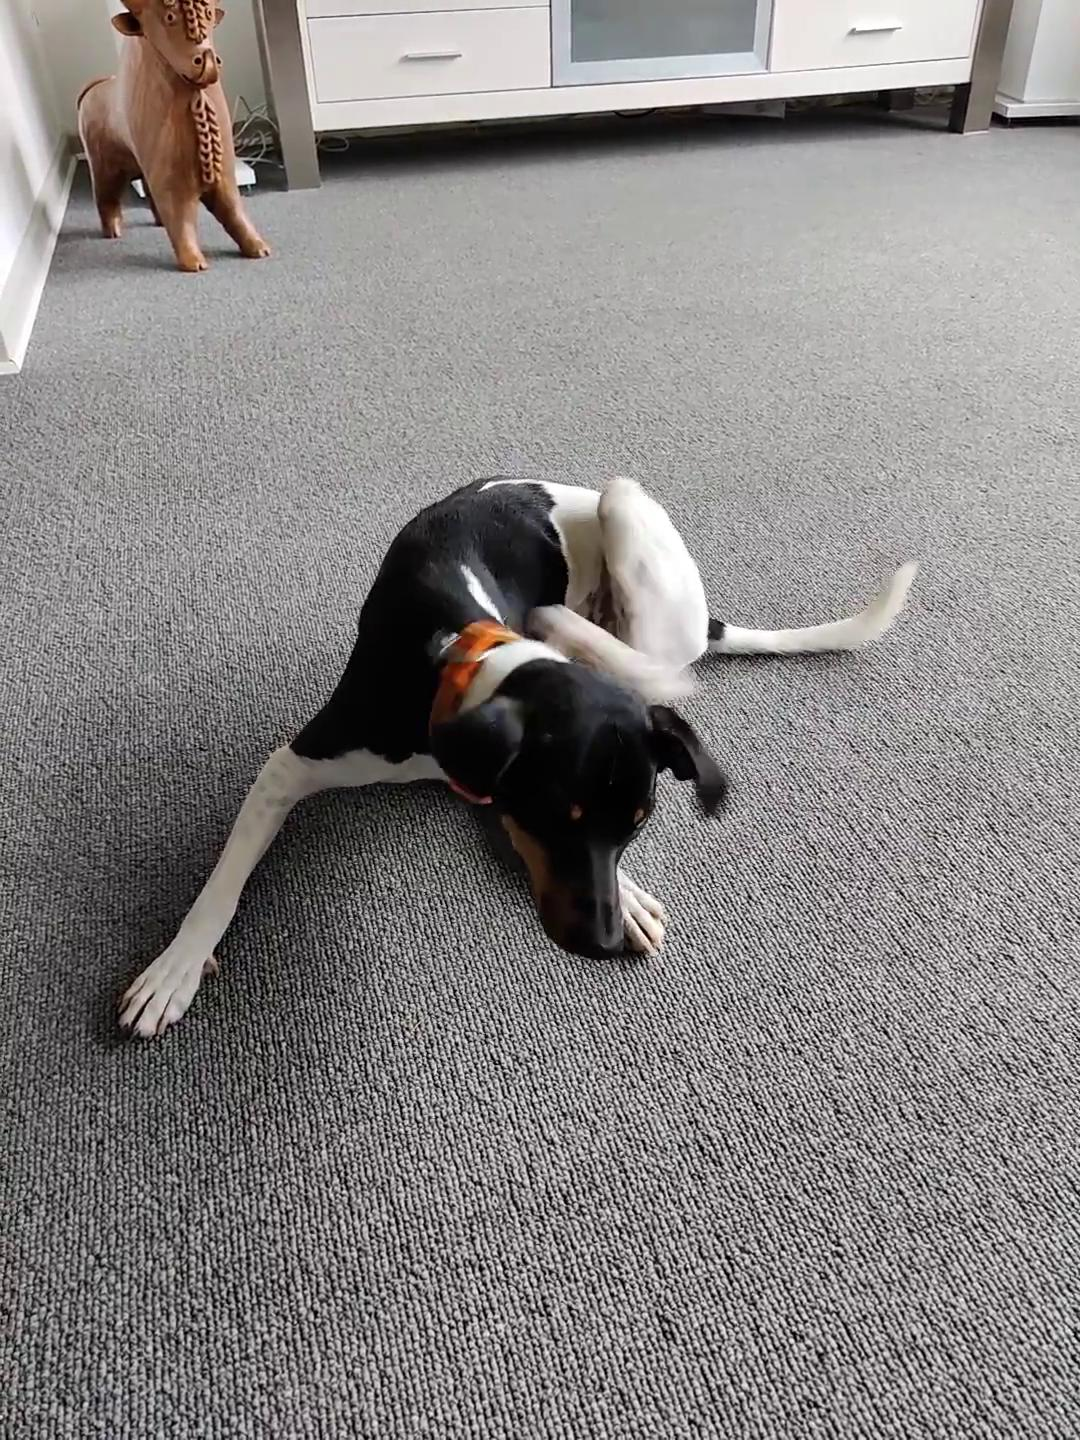Dog: (103, 446, 950, 1039)
